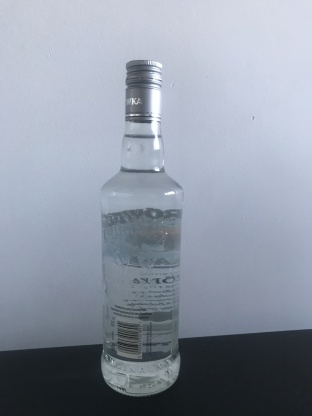nakretka: (124, 58, 163, 123)
